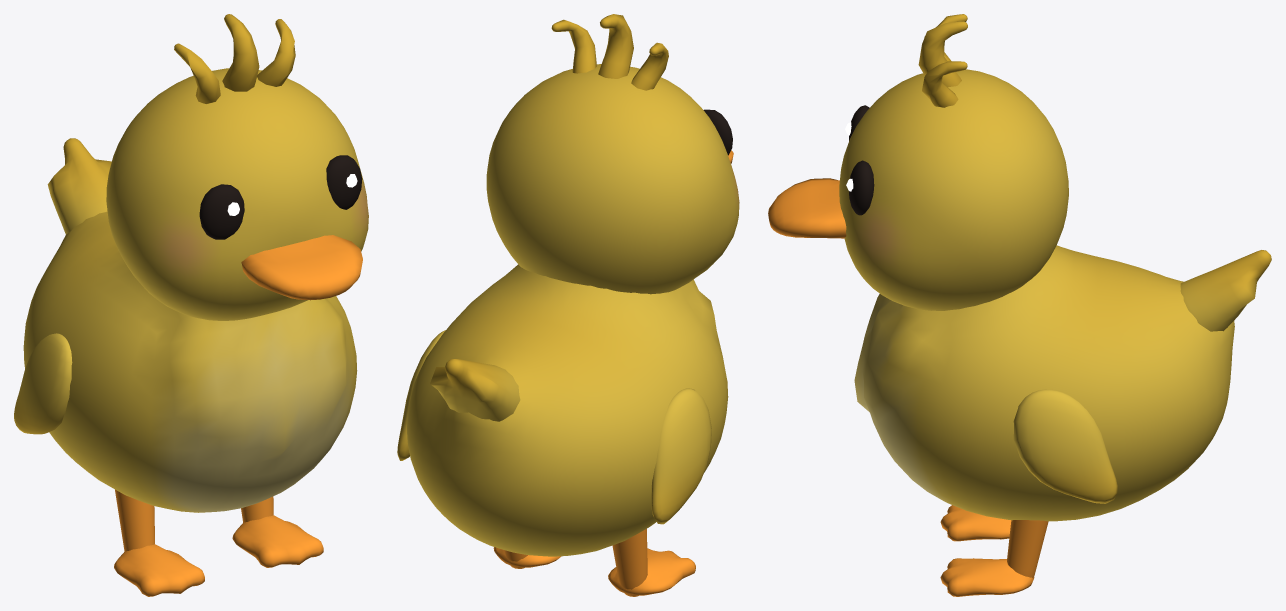
File: pet_duck.glb
The picture shows the model from 3 angles, left to right: view 1: azimuth 30°, elevation 25°; view 2: azimuth 150°, elevation 25°; view 3: azimuth 270°, elevation 25°; orthographic projection. The views are drawn at different scales.
Parts seen in each view (by area): view 1: torso, skull, bill, wing_0_mesh, tuft, tail_mesh, leg_0_foot, leg_1_foot, eye_0_ball, leg_1_mesh, eye_1_ball, leg_0_mesh; view 2: torso, skull, wing_0_mesh, tail_mesh, tuft, leg_1_foot, leg_1_mesh, wing_1_mesh, leg_0_foot, eye_0_ball; view 3: torso, skull, wing_1_mesh, tail_mesh, bill, tuft, leg_0_foot, leg_0_mesh, leg_1_foot, eye_1_ball.
Boxes of the visible parts, x1,y1,x2,y2 form: torso: (23, 211, 357, 512); skull: (106, 68, 368, 320); bill: (241, 235, 362, 300); wing_0_mesh: (14, 333, 72, 434); tuft: (174, 14, 295, 103); tail_mesh: (47, 138, 111, 234); leg_0_foot: (232, 515, 323, 567); leg_1_foot: (114, 544, 204, 596); eye_0_ball: (199, 184, 244, 239); leg_1_mesh: (115, 489, 154, 551); eye_1_ball: (326, 155, 362, 209); leg_0_mesh: (241, 496, 273, 522); torso: (406, 264, 728, 556); skull: (486, 64, 739, 294); wing_0_mesh: (651, 388, 711, 524); tail_mesh: (430, 359, 520, 421); tuft: (551, 14, 668, 90); leg_1_foot: (608, 548, 695, 595); leg_1_mesh: (612, 528, 647, 596); wing_1_mesh: (397, 330, 445, 460); leg_0_foot: (493, 547, 561, 567); eye_0_ball: (703, 109, 732, 155); torso: (854, 245, 1234, 521); skull: (839, 69, 1068, 310); wing_1_mesh: (1013, 389, 1117, 503); tail_mesh: (1180, 250, 1271, 331); bill: (768, 178, 846, 238); tuft: (918, 14, 967, 107); leg_0_foot: (940, 558, 1034, 596); leg_0_mesh: (1007, 520, 1048, 577); leg_1_foot: (940, 505, 1011, 541); eye_1_ball: (849, 160, 874, 215).
Bounding box in the file's own units: 0.4967 × 0.9056 × 0.7672.
